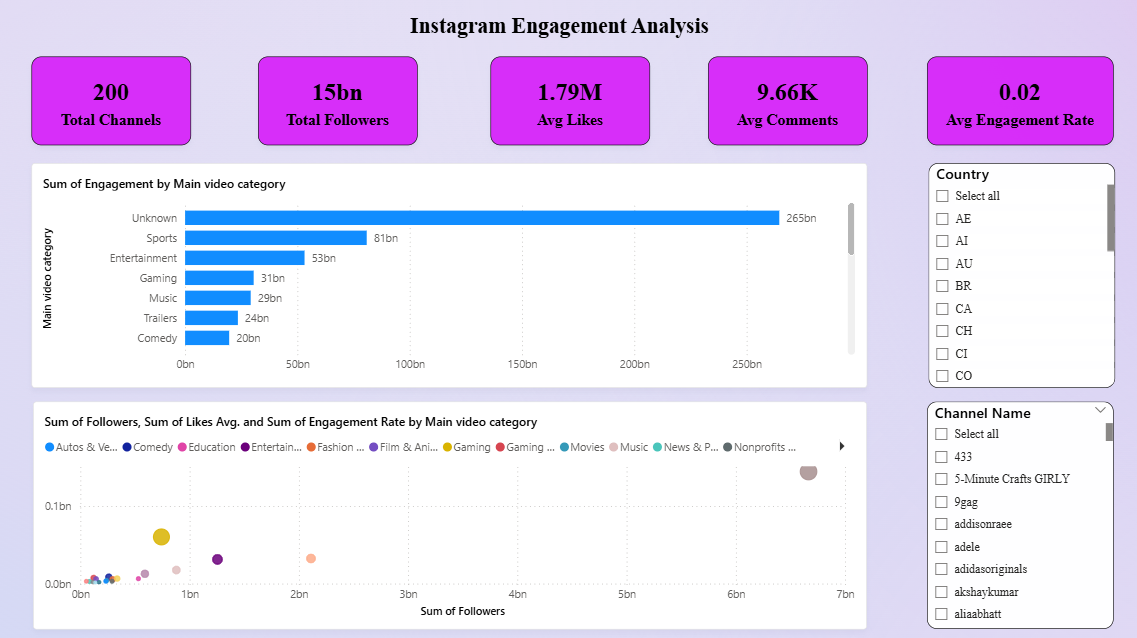

What the dashboard file says about the page in this screenshot:
{"tool":"powerbi","page":{"name":"Page 3","canvas":[1280,720],"ordinal":2},"visuals":[{"type":"barChart","fields":{"Category":["Instagram_data.Main video category"],"Y":["Sum(Instagram_data.Engagement)"]},"box":[41.7,186.7,928.3,250],"z":0},{"type":"scatterChart","fields":{"X":["Sum(Instagram_data.Followers)"],"Y":["Sum(Instagram_data.Likes Avg.)"],"Size":["Sum(Instagram_data.Engagement Rate)"],"Series":["Instagram_data.Main video category"]},"box":[43.3,451.7,926.7,253.3],"z":1000},{"type":"slicer","fields":{"Values":["Instagram_data.Country"]},"box":[1038.7,186.2,207.4,249.8],"z":1001},{"type":"slicer","fields":{"Values":["Instagram_data.Channel Name"]},"box":[1037.2,451.2,207.4,252.9],"z":1002},{"type":"card","fields":{"Values":["Instagram_data.Total Channels"]},"box":[40.9,68.1,177.2,98.4],"z":1003},{"type":"card","title":"Folloers","fields":{"Values":["Instagram_data.Total Followers"]},"box":[293.8,68.1,177.2,98.4],"z":1004},{"type":"card","title":"Folloers","fields":{"Values":["Instagram_data.Avg Likes"]},"box":[551.2,68.1,177.2,98.4],"z":1005},{"type":"card","title":"Folloers","fields":{"Values":["Instagram_data.Avg Comments"]},"box":[793.4,68.1,177.2,98.4],"z":1006},{"type":"card","title":"Folloers","fields":{"Values":["Instagram_data.Avg Engagement Rate"]},"box":[1037.2,68.1,207.4,98.4],"z":1007},{"type":"textbox","box":[421.7,15,413.3,53.3],"z":1008}]}

Visuals, with their boxes in screenshot pixels (x1, y1, x2, y2), scaled from the page's 1280x720 canvas onto the 1137x638 screenshot:
barChart - Instagram_data.Main video category x Sum(Instagram_data.Engagement): box=[37, 165, 862, 387]
scatterChart - Sum(Instagram_data.Followers) x Sum(Instagram_data.Likes Avg.): box=[38, 400, 862, 625]
slicer - Instagram_data.Country: box=[923, 165, 1107, 386]
slicer - Instagram_data.Channel Name: box=[921, 400, 1106, 624]
card - Instagram_data.Total Channels: box=[36, 60, 194, 148]
"Folloers" card: box=[261, 60, 418, 148]
"Folloers" card: box=[490, 60, 647, 148]
"Folloers" card: box=[705, 60, 862, 148]
"Folloers" card: box=[921, 60, 1106, 148]
textbox: box=[375, 13, 742, 61]
